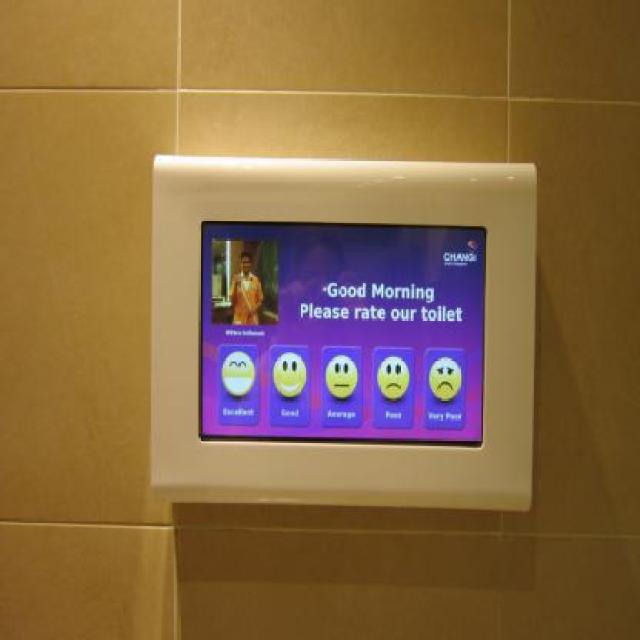Person: (187, 174, 528, 532), (228, 252, 266, 328)
